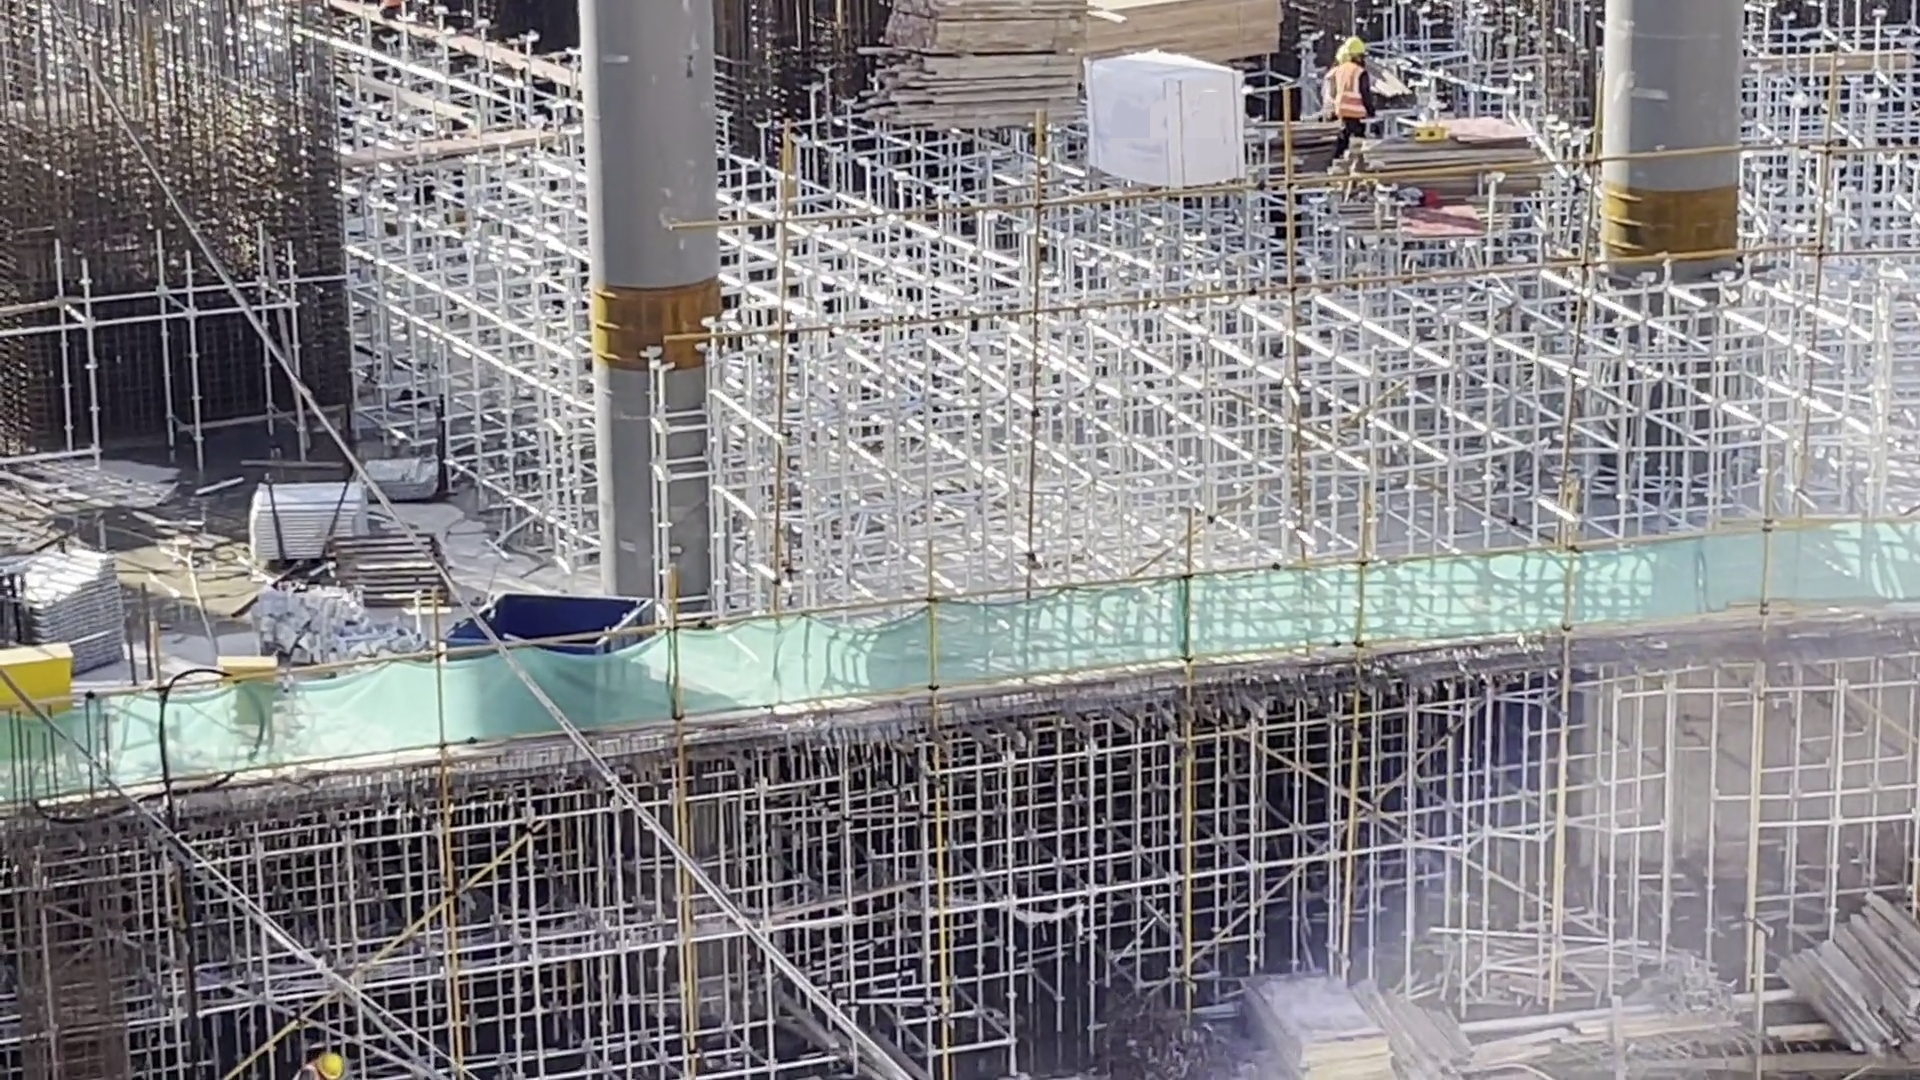board: (1251, 961, 1379, 1080), (1373, 124, 1564, 199)
ebox: (191, 657, 288, 741), (1, 672, 94, 754)
helmet: (1348, 40, 1369, 57), (1338, 46, 1348, 60)
hopper: (458, 594, 681, 712)
person: (1346, 33, 1369, 135), (296, 1046, 339, 1080), (1328, 43, 1339, 106)
scaffold: (3, 544, 166, 662), (229, 481, 359, 574)
vest: (1343, 63, 1364, 113), (1321, 68, 1338, 105), (301, 1062, 315, 1080)
wood: (914, 1, 1087, 111), (1799, 856, 1920, 985), (1163, 1, 1258, 67)
